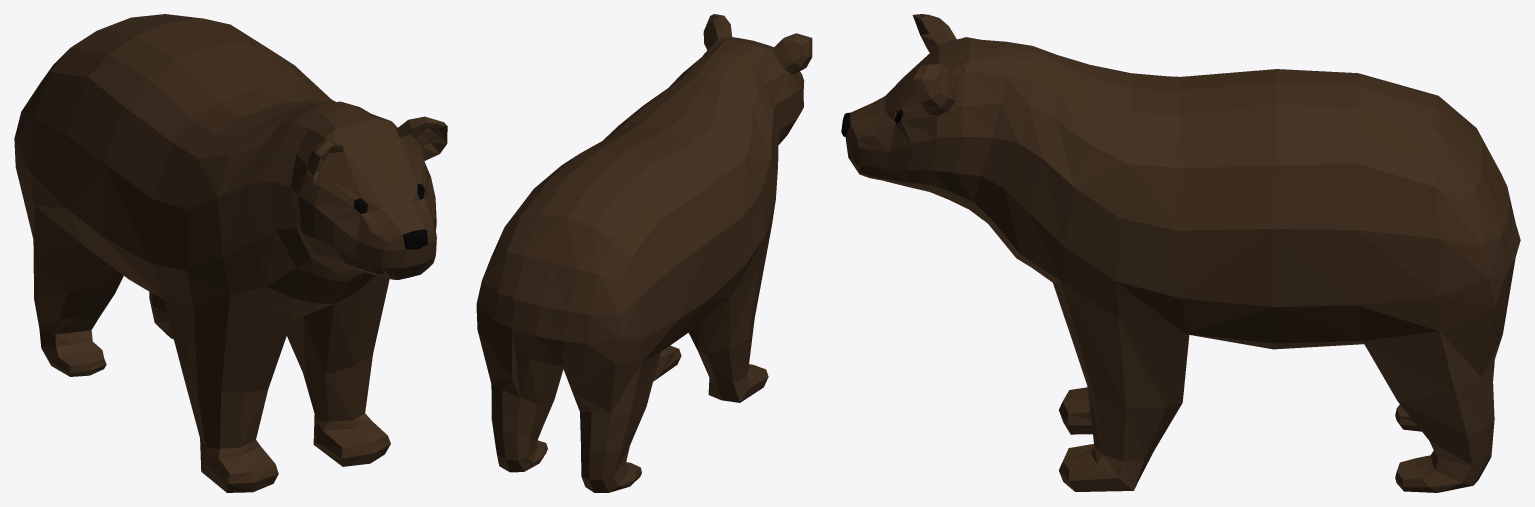
File: TriangulatedBear.fbx
3 views of the same model, side by side, from view 1: azimuth 30°, elevation 25°; view 2: azimuth 150°, elevation 25°; view 3: azimuth 270°, elevation 25° (orthographic). The views are drawn at different scales.
Visible parts, largest first — view 1: Bear; view 2: Bear; view 3: Bear.
Boxes of the visible parts, x1,y1,x2,y2 form: Bear: (14,14,447,492); Bear: (476,14,812,492); Bear: (841,14,1520,492).
Bounding box in the file's own units: 243 × 432 × 644.
